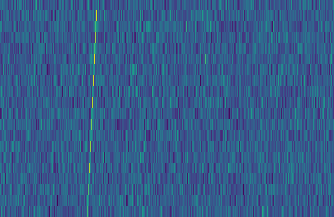signal: (80, 0, 99, 217)
